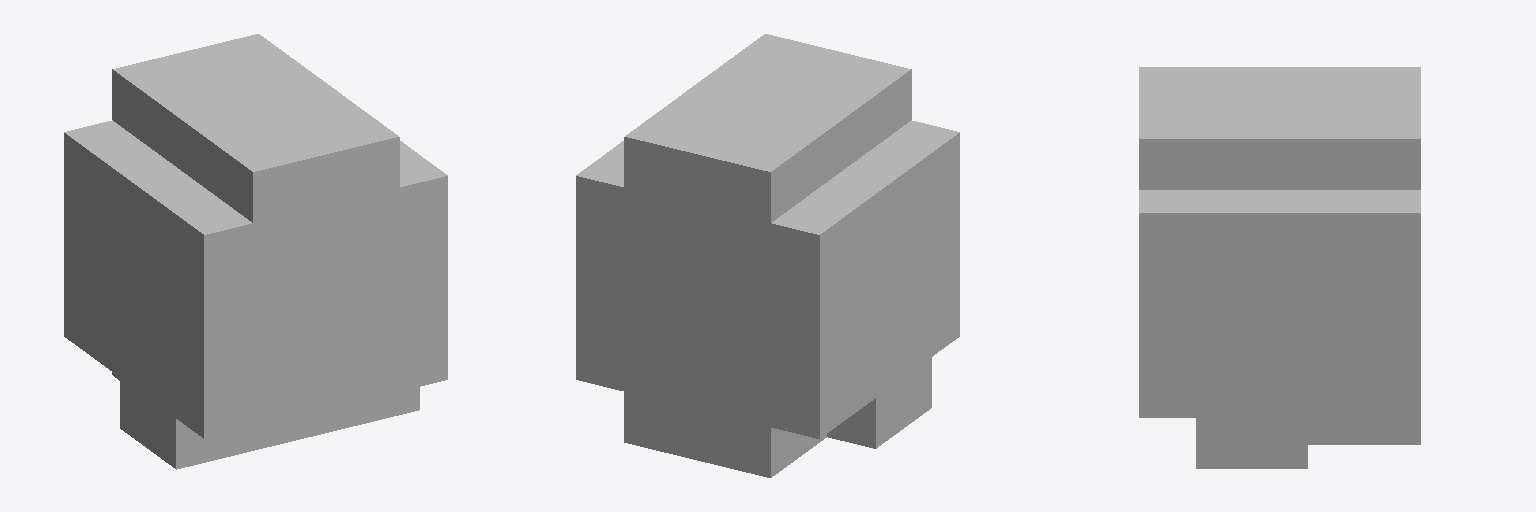
File: head.obj
The picture shows the model from 3 angles: view 1: azimuth 30°, elevation 25°; view 2: azimuth 150°, elevation 25°; view 3: azimuth 270°, elevation 25°; orthographic projection.
Parts seen in each view (by area): view 1: object 1; view 2: object 1; view 3: object 1.
Boxes of the visible parts, x1=… form: object 1: x1=64, y1=34, x2=447, y2=469; object 1: x1=576, y1=34, x2=959, y2=477; object 1: x1=1139, y1=67, x2=1420, y2=468.
Bounding box in the file's own units: 0.5 × 0.6 × 0.5.